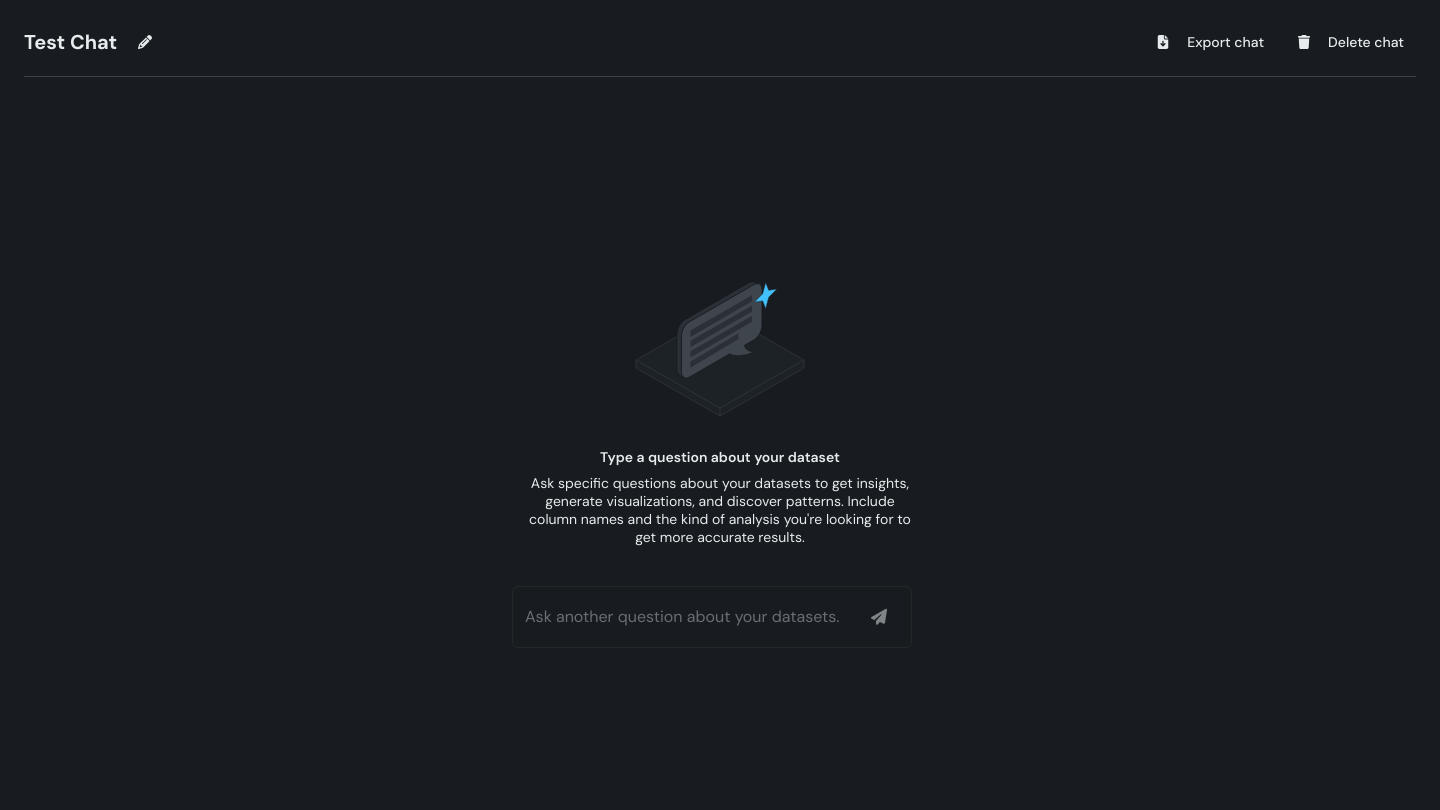
Test: Chats Component › opens delete confirmation dialog when delete button is clicked
Click the button with test id "delete-all-chats-button": (1350, 42) [1284, 24, 1416, 60]
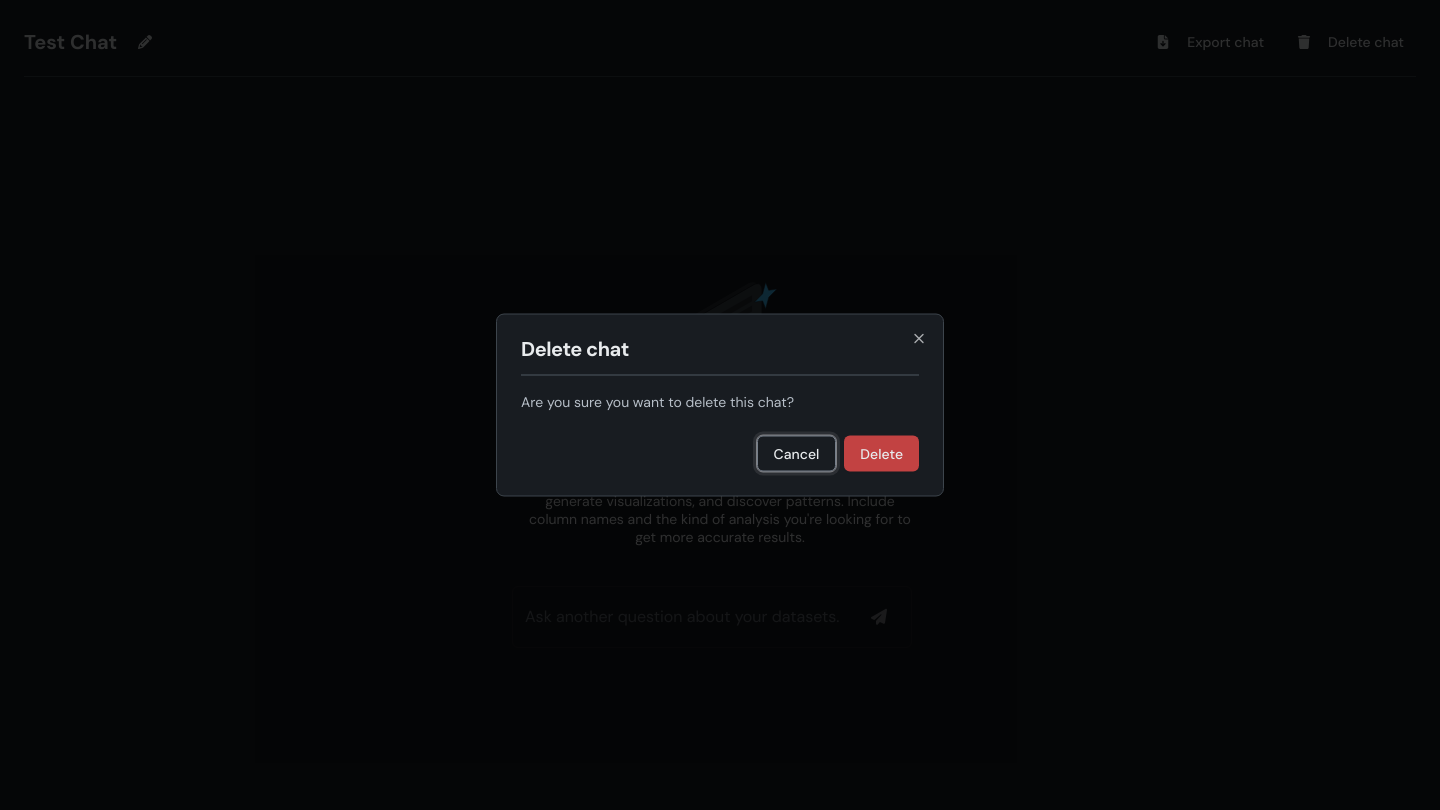
Check: the text "Are you sure you want to delete this chat?" is shown, box [521, 392, 794, 410]
